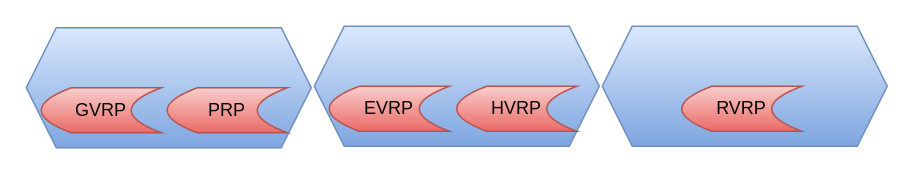
The diagram is 914 pixels wide and 174 high, and some of its shapes have lost their labels. Each missing label, with the box of its shape:
Minimiser l'énergie dépensée par les véhicules: (313, 25, 599, 146)
Minimiser l'énergie rechargée par les véhicules: (601, 25, 887, 146)
Minimiser les émissions de CO2 par les véhicules: (25, 26, 311, 148)
